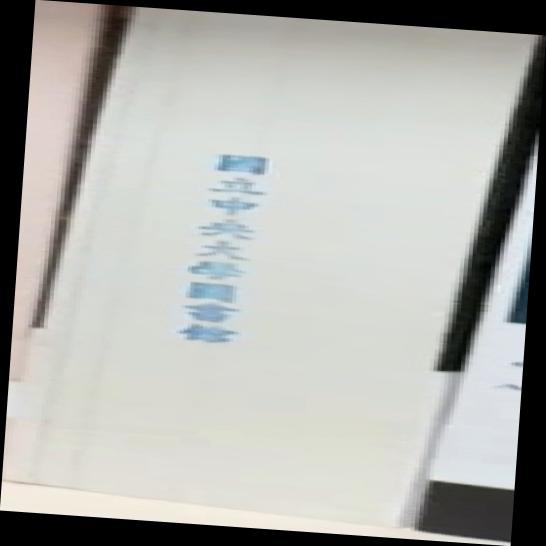backward: (1, 1, 543, 546)
